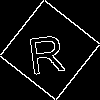R: (25, 25, 67, 75)
